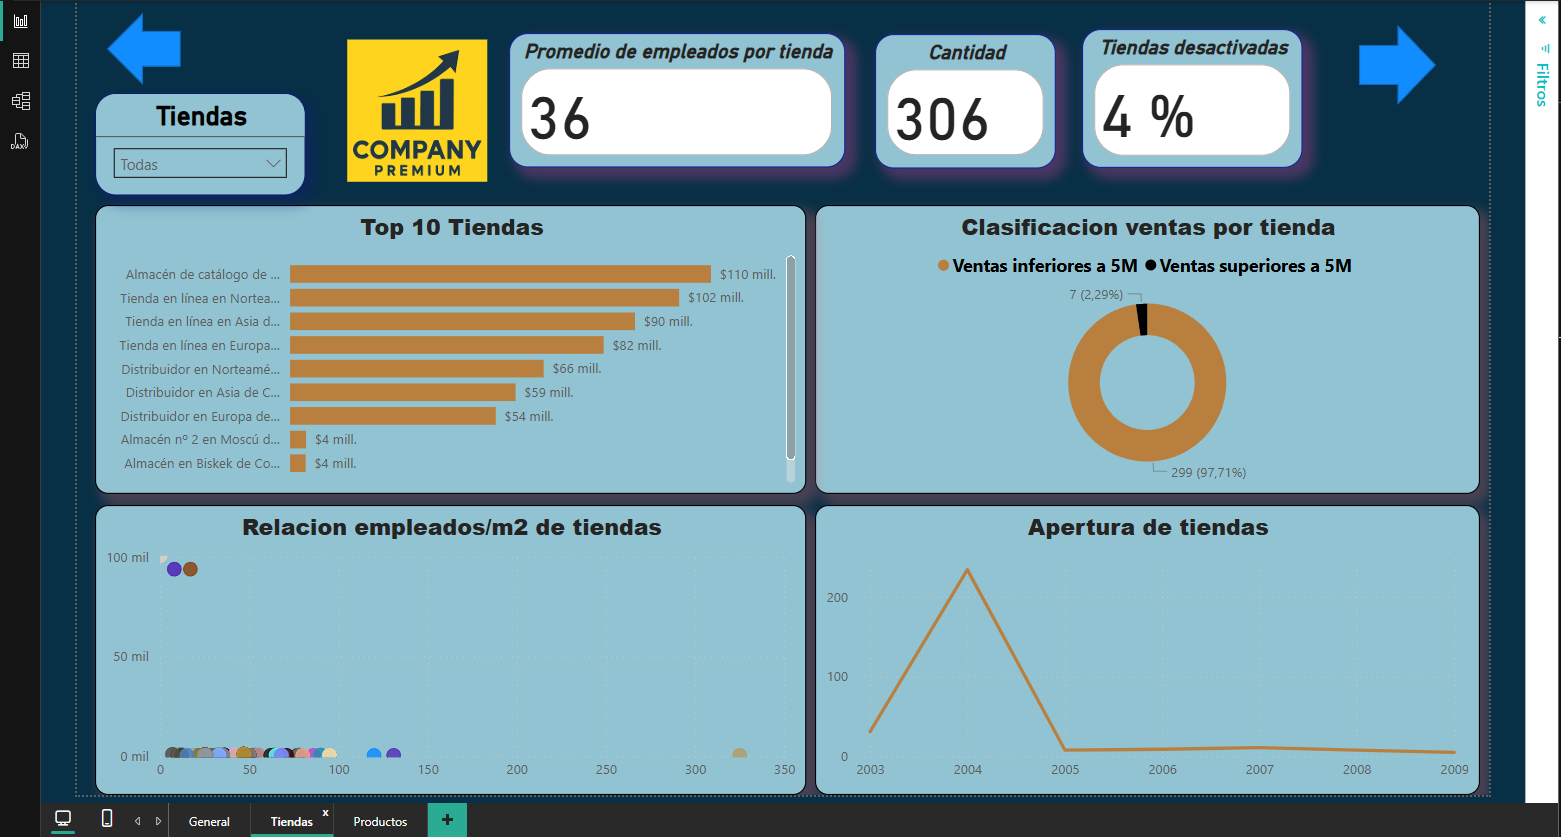

Layout of this report page (visuals, bound fields, positions):
{"tool":"powerbi","page":{"name":"Tiendas","canvas":[1280,720],"ordinal":1},"visuals":[{"type":"textbox","box":[770.7,7.2,489.8,78.2],"z":0},{"type":"cardVisual","title":"Cantidad","fields":{"Data":["medidas.Cantidad de tiendas"]},"box":[15.4,9.3,190.4,152.3],"z":1000},{"type":"donutChart","title":"Clasificacion ventas por tienda","fields":{"Category":["dim_tienda.Clasificacion Tienda"],"Y":["medidas.Cantidad de tiendas"]},"box":[16.9,171,578,262.2],"z":4000},{"type":"cardVisual","title":"Promedio de empleados","fields":{"Data":["medidas.Promedio Empleados por tienda"]},"box":[262.4,7.2,260.3,153.3],"z":5000},{"type":"clusteredBarChart","title":"Top 5 Paises Ventas","fields":{"Category":["dim_geografia.pais"],"Y":["medidas.VentasEnMillones"]},"box":[606.2,171,660.7,262.2],"z":6000},{"type":"cardVisual","title":"Tiendas desactivadas","fields":{"Data":["medidas.Porcentaje tiendas desactivadas"]},"box":[558.7,9.3,177,152.3],"z":7000},{"type":"scatterChart","title":"Relacion empleados/m2 de tiendas","fields":{"Y":["dim_tienda.m2"],"X":["dim_tienda.cant_empleados"],"Series":["dim_tienda.nombre_tienda"]},"box":[16.9,439.8,578,280.1],"z":8000}]}

Visuals, with their boxes on the page's 1280x720 design canvas (x1, y1, x2, y2). These are canvas units, not pixel positions in the 1561x837 screenshot, which may show the page scaled, cropped or inside an application window:
textbox: 771 7 1260 85
"Cantidad" cardVisual: 15 9 206 162
"Clasificacion ventas por tienda" donutChart: 17 171 595 433
"Promedio de empleados" cardVisual: 262 7 523 160
"Top 5 Paises Ventas" clusteredBarChart: 606 171 1267 433
"Tiendas desactivadas" cardVisual: 559 9 736 162
"Relacion empleados/m2 de tiendas" scatterChart: 17 440 595 720
